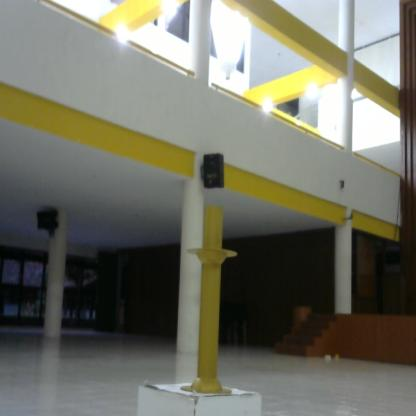pole: (177, 198, 242, 401)
